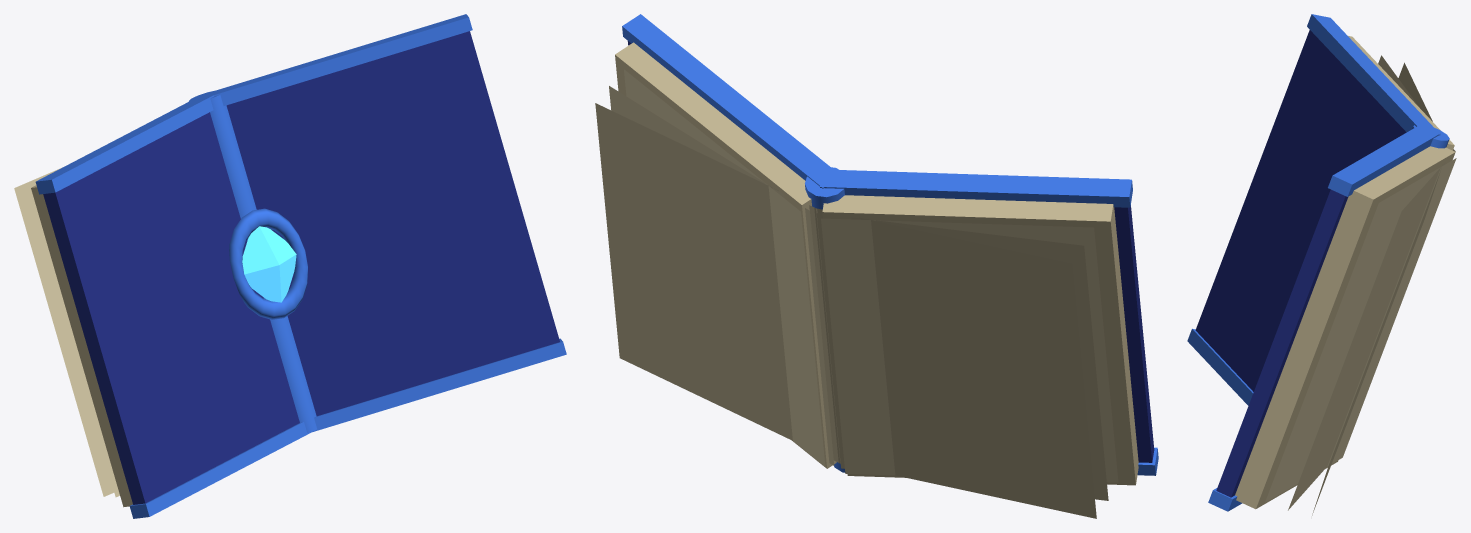
Rendered from back_eqen1.glb.
3 views of the same model, side by side, from view 1: azimuth 30°, elevation 25°; view 2: azimuth 150°, elevation 25°; view 3: azimuth 270°, elevation 25° (orthographic). The views are drawn at different scales.
Bounding box in the file's own units: 2.03 × 1.5 × 0.9664.
